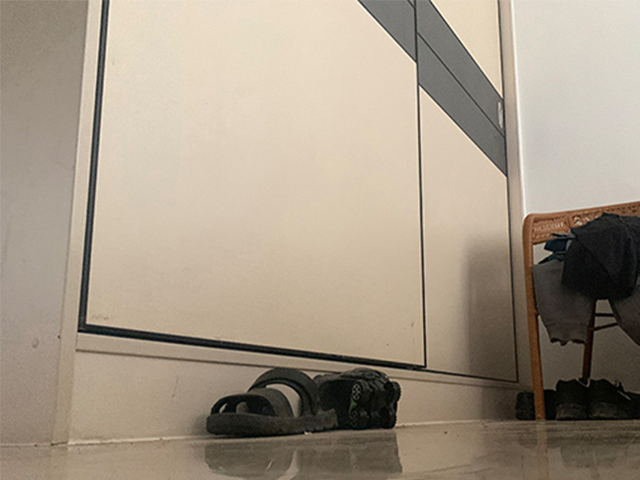cabinet: (1, 1, 522, 445)
slippers: (205, 367, 340, 436)
stool: (523, 202, 640, 423)
